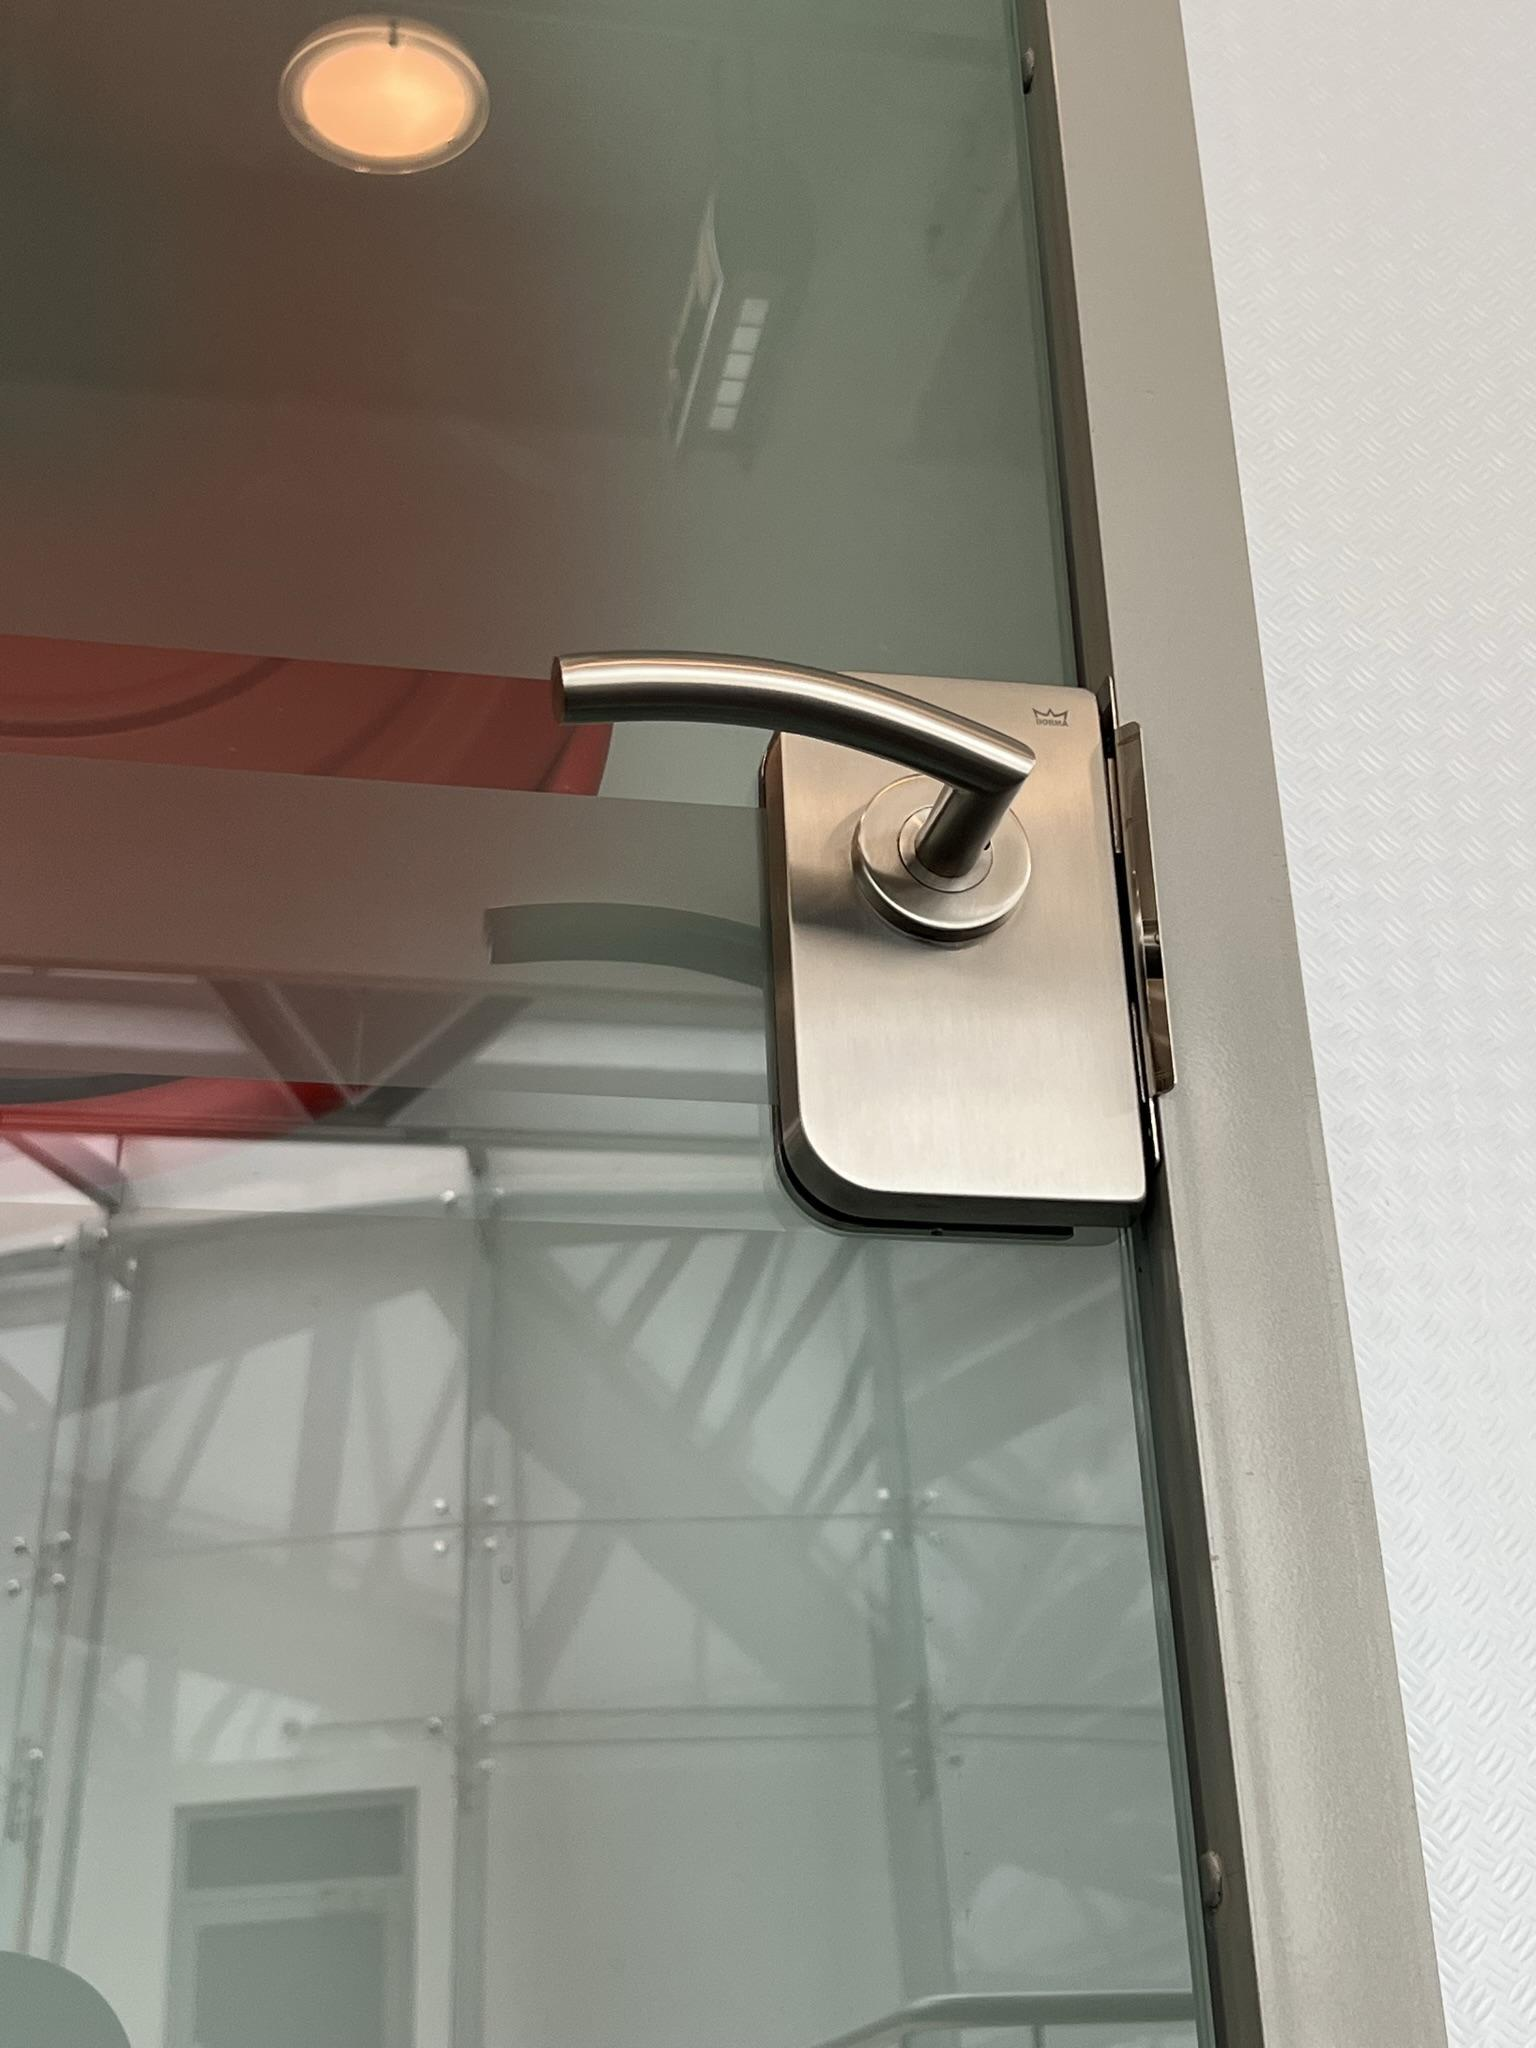handle: (532, 611, 1181, 1266)
